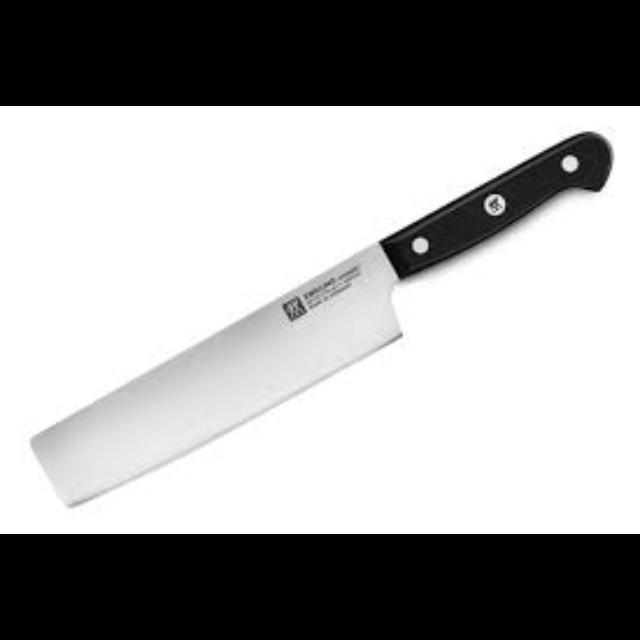Knife: (28, 130, 612, 507)
